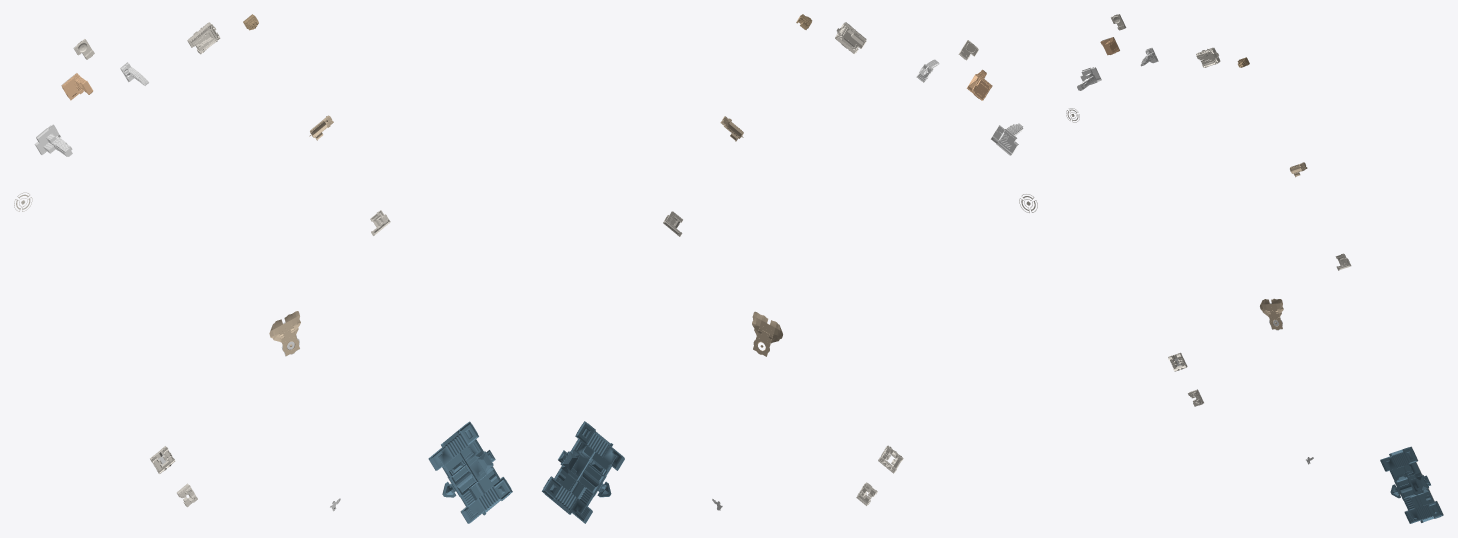
The model's file is 3dbuildings-14-4825-6156.glb.
3 views of the same model, side by side, from view 1: azimuth 30°, elevation 25°; view 2: azimuth 150°, elevation 25°; view 3: azimuth 330°, elevation 25° (orthographic). The views are drawn at different scales.
Size of the model in its own units: 7672 by 8519 by 489.
